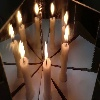fire: (43, 41, 49, 61)
